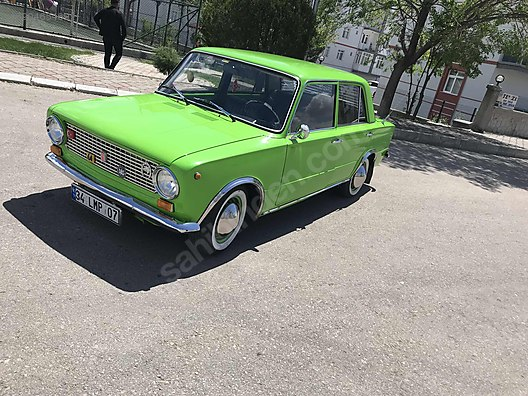murat: (40, 38, 407, 254)
